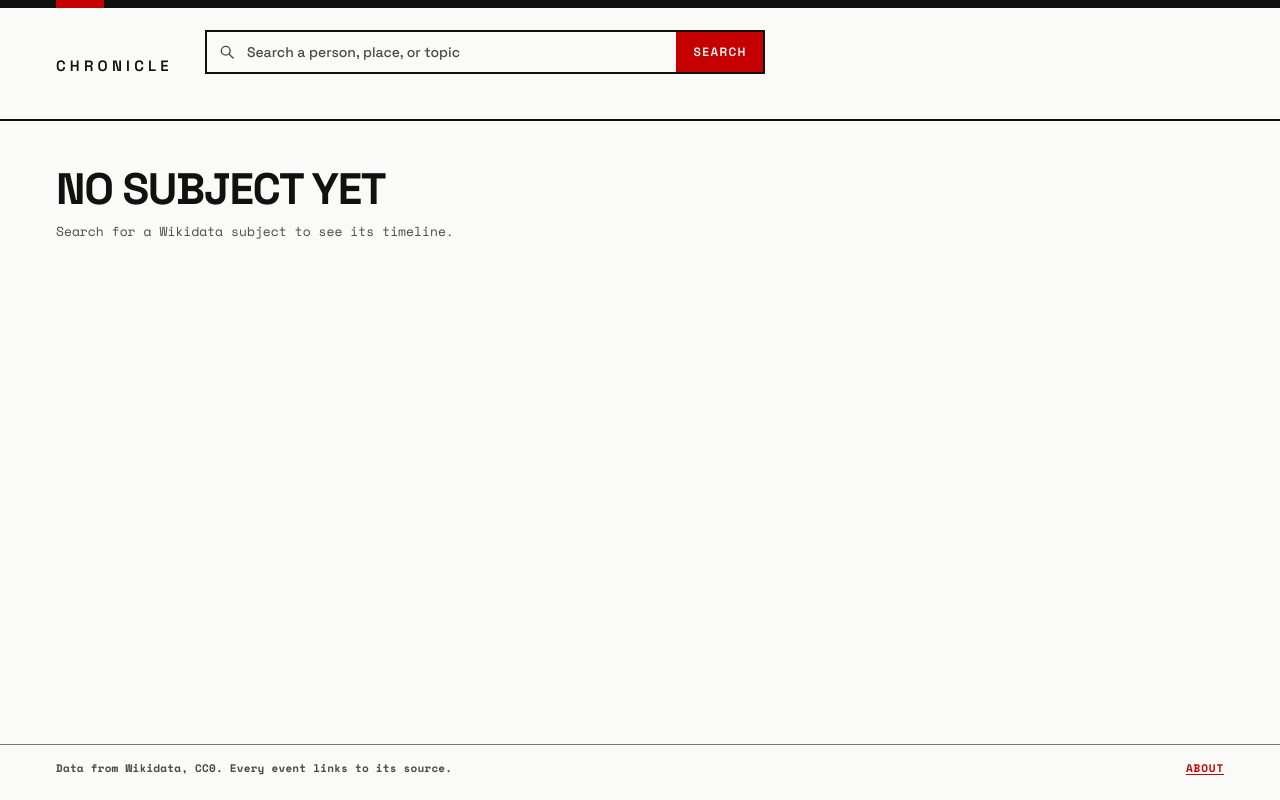
Test: App › keeps a typed subject in the search field
Type "London" into the dropdown named "Subject". click: (455, 52)
box: [235,42,676,61]
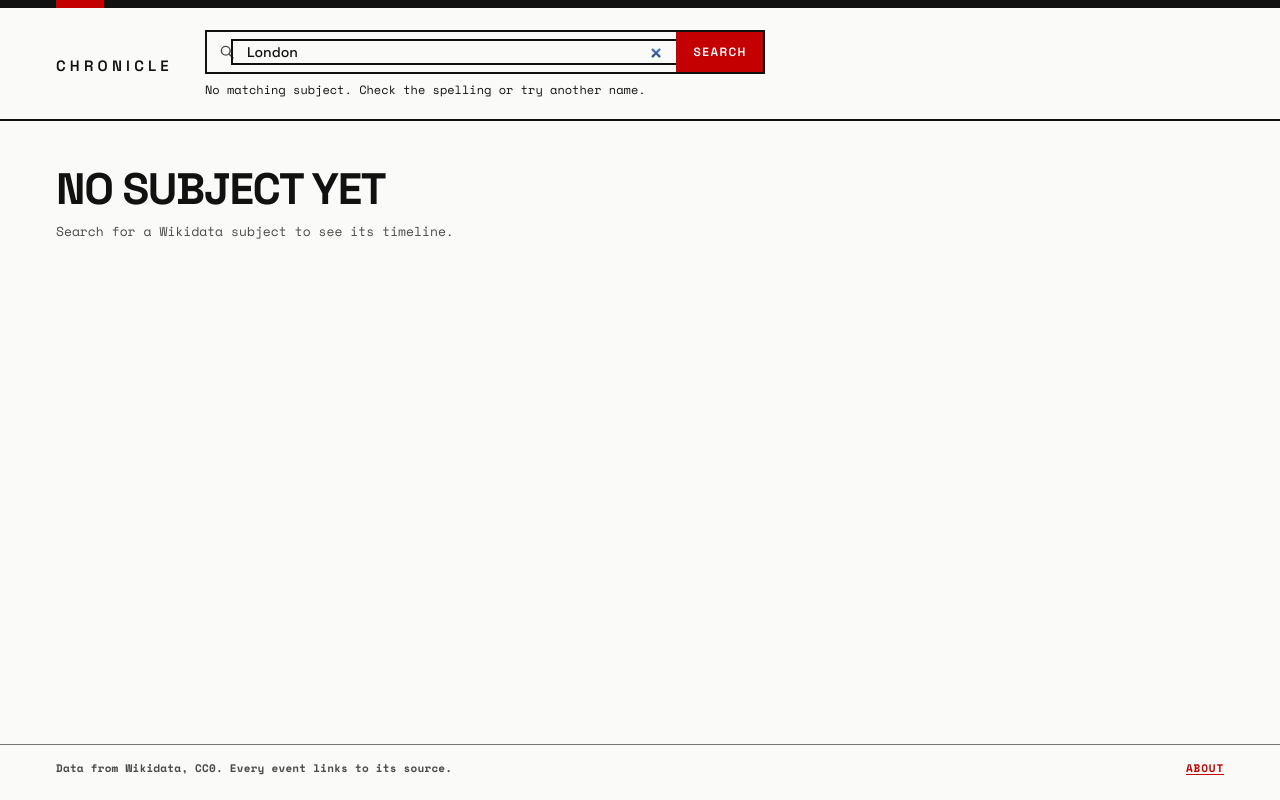
Now the text "No matching subject. Check the spelling or try another name." is shown, box [205,81,646,98]
